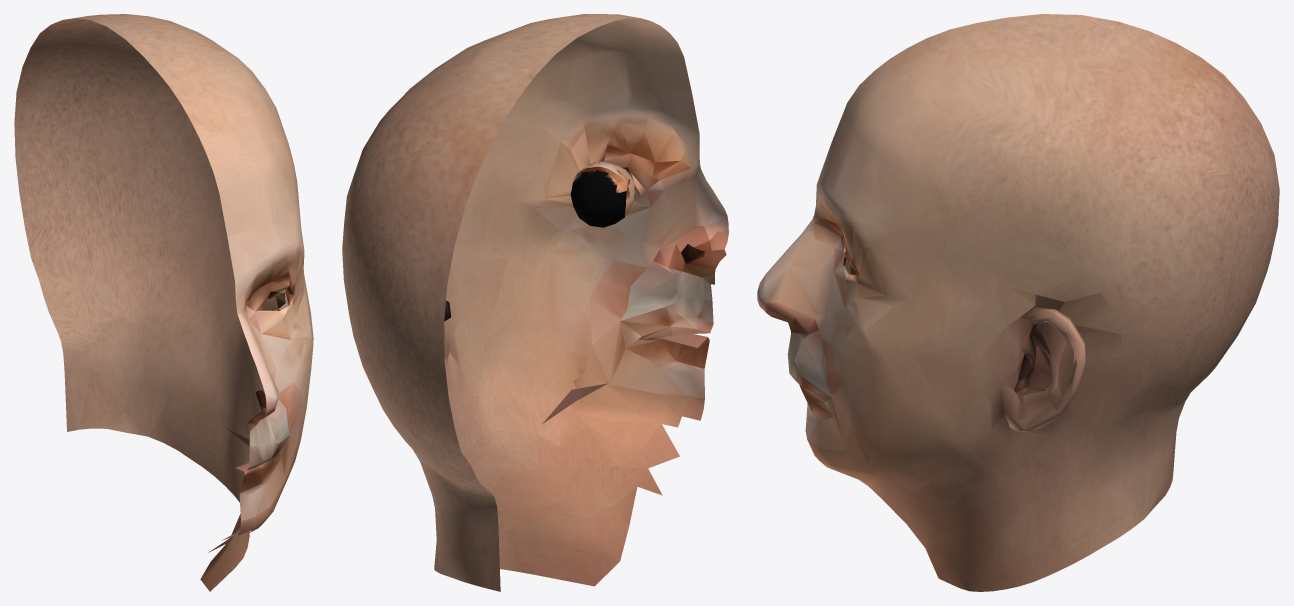
The model's file is human ear.fbx.
3 views of the same model, side by side, from view 1: azimuth 30°, elevation 25°; view 2: azimuth 150°, elevation 25°; view 3: azimuth 270°, elevation 25° (orthographic). The views are drawn at different scales.
Parts seen in each view (by area): view 1: Head; view 2: Head; view 3: Head.
Part boxes in pixels (bbox=[...]): Head: bbox=[14, 14, 313, 591]; Head: bbox=[342, 14, 728, 591]; Head: bbox=[757, 14, 1279, 591].
Bounding box in the file's own units: 9.72 × 27.01 × 23.39.
Materials: 1 (1 with a texture image).
